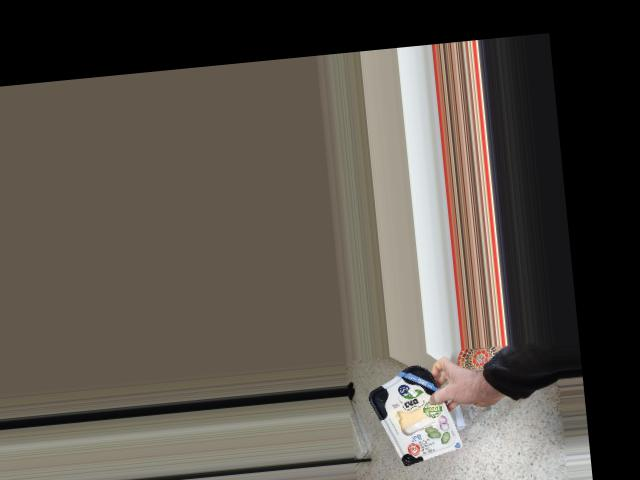cheese: (372, 360, 449, 468)
